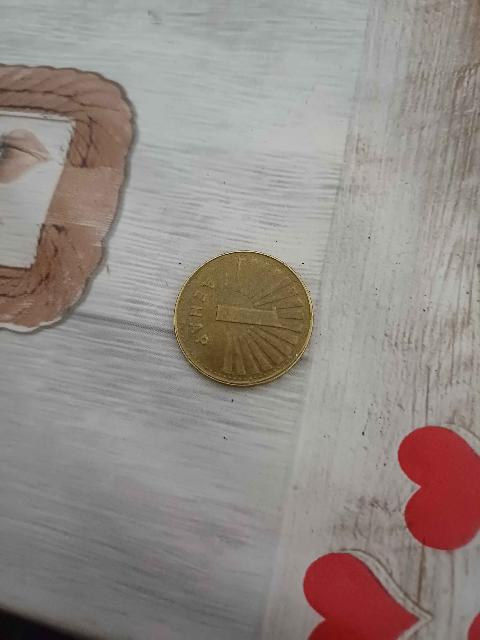1_coin: (175, 252, 313, 386)
